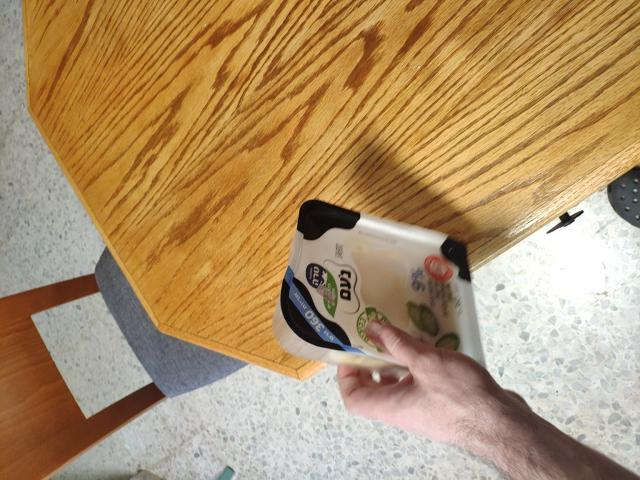cheese: (264, 213, 507, 367)
